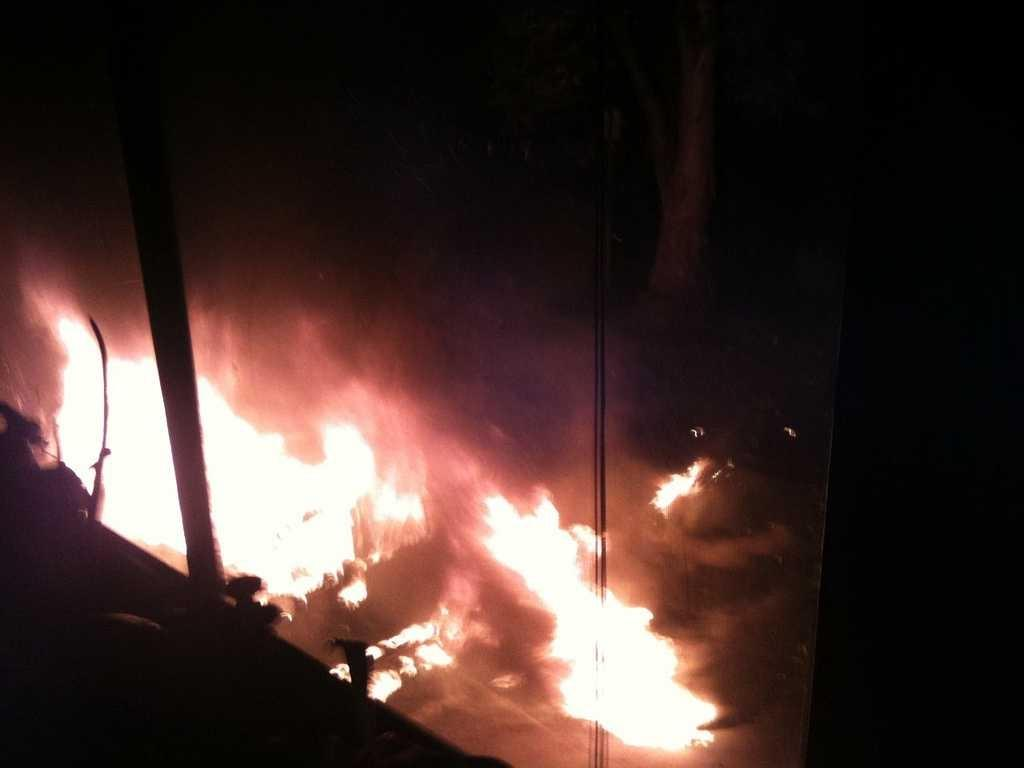fire: (542, 574, 714, 758), (210, 426, 344, 584), (68, 388, 162, 532)
